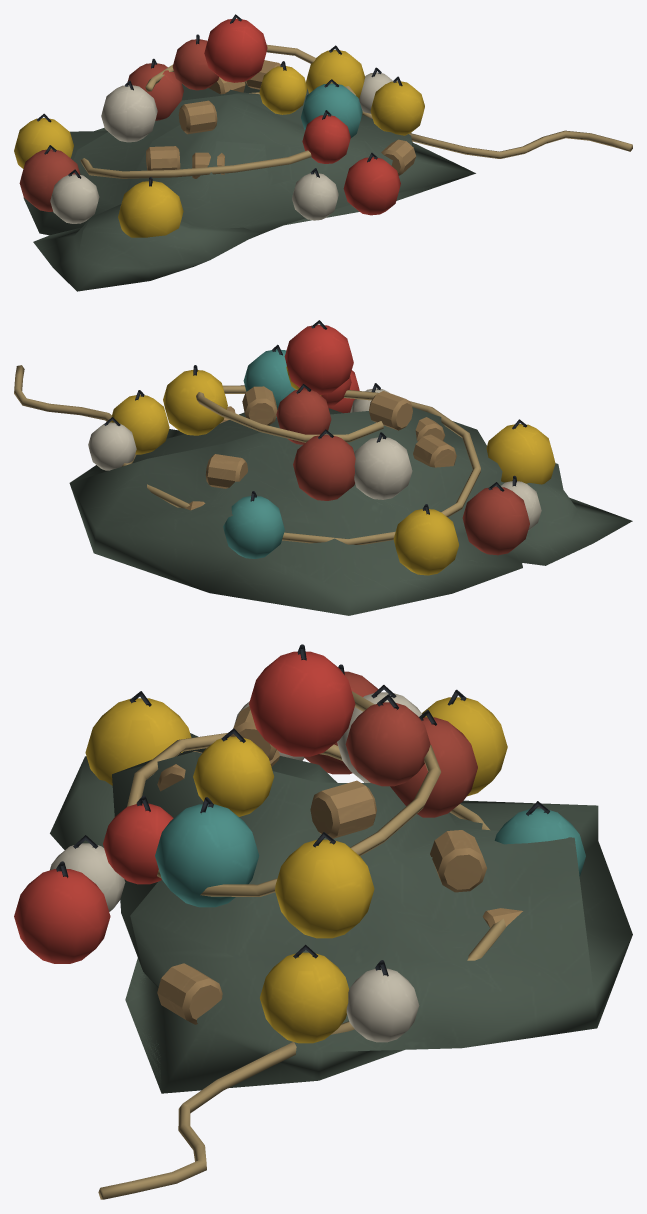
File: net_float_pile.glb
3 renders of one model, top to bottom at view 1: azimuth 30°, elevation 25°; view 2: azimuth 150°, elevation 25°; view 3: azimuth 270°, elevation 25°, orthographic. The views are drawn at different scales.
Visible parts, largest first — view 1: net_float_pile; view 2: net_float_pile; view 3: net_float_pile.
Part boxes in pixels (x1,y1,x2,y2): net_float_pile: (14,14,632,291); net_float_pile: (14,320,632,615); net_float_pile: (14,644,632,1199).
Bounding box in the file's own units: 3.18 × 0.9566 × 1.85.
9 materials, 9 textured.
